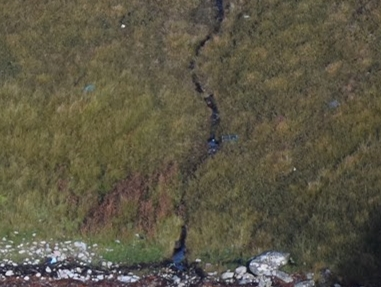white_in_green: (69, 68, 108, 103), (36, 241, 75, 276), (103, 9, 145, 41)
